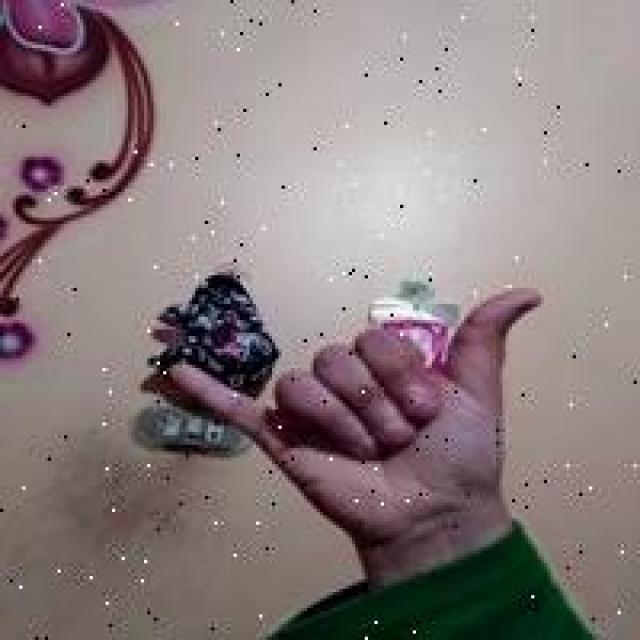Y: (167, 288, 548, 522)
